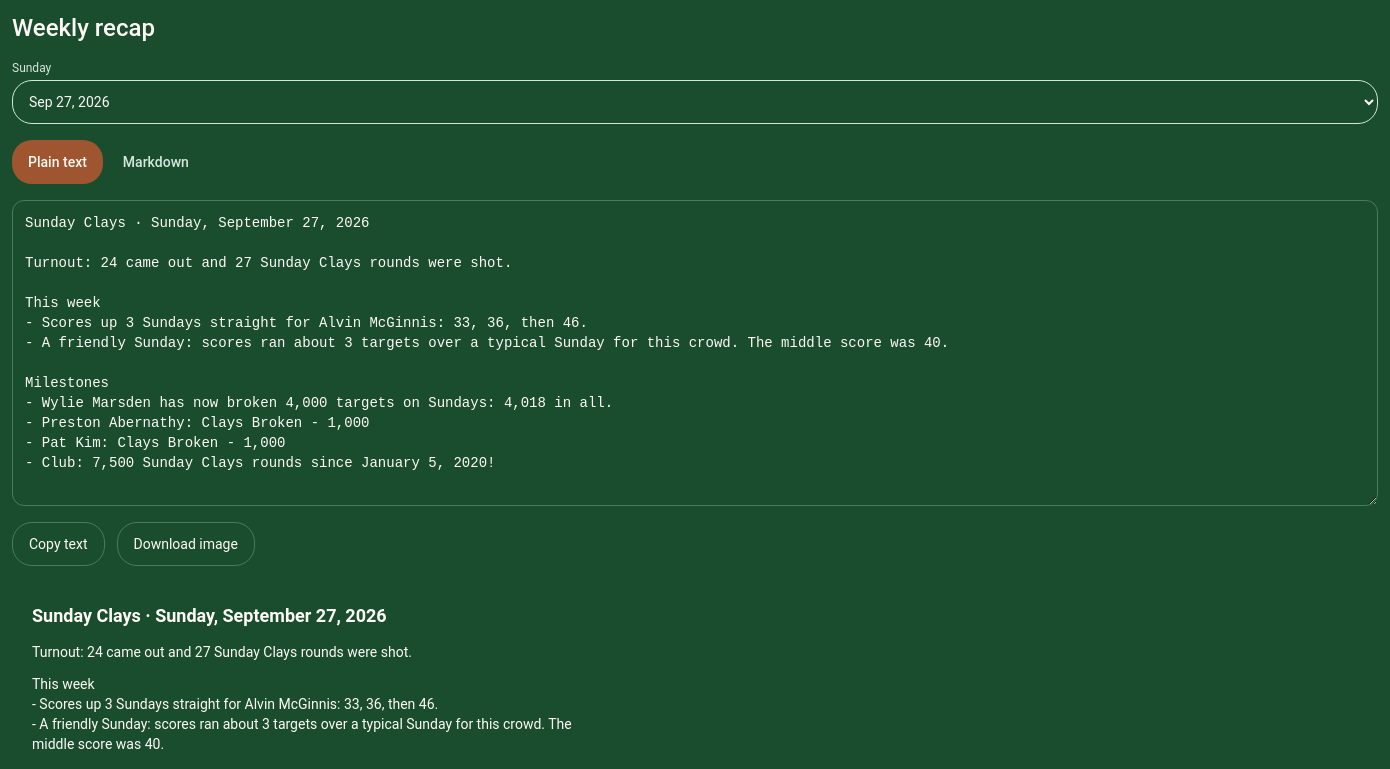
RecapPage › falls back to selecting the text when the clipboard API fails
Click the button "Copy text" at [58, 544], box [12, 522, 104, 566]
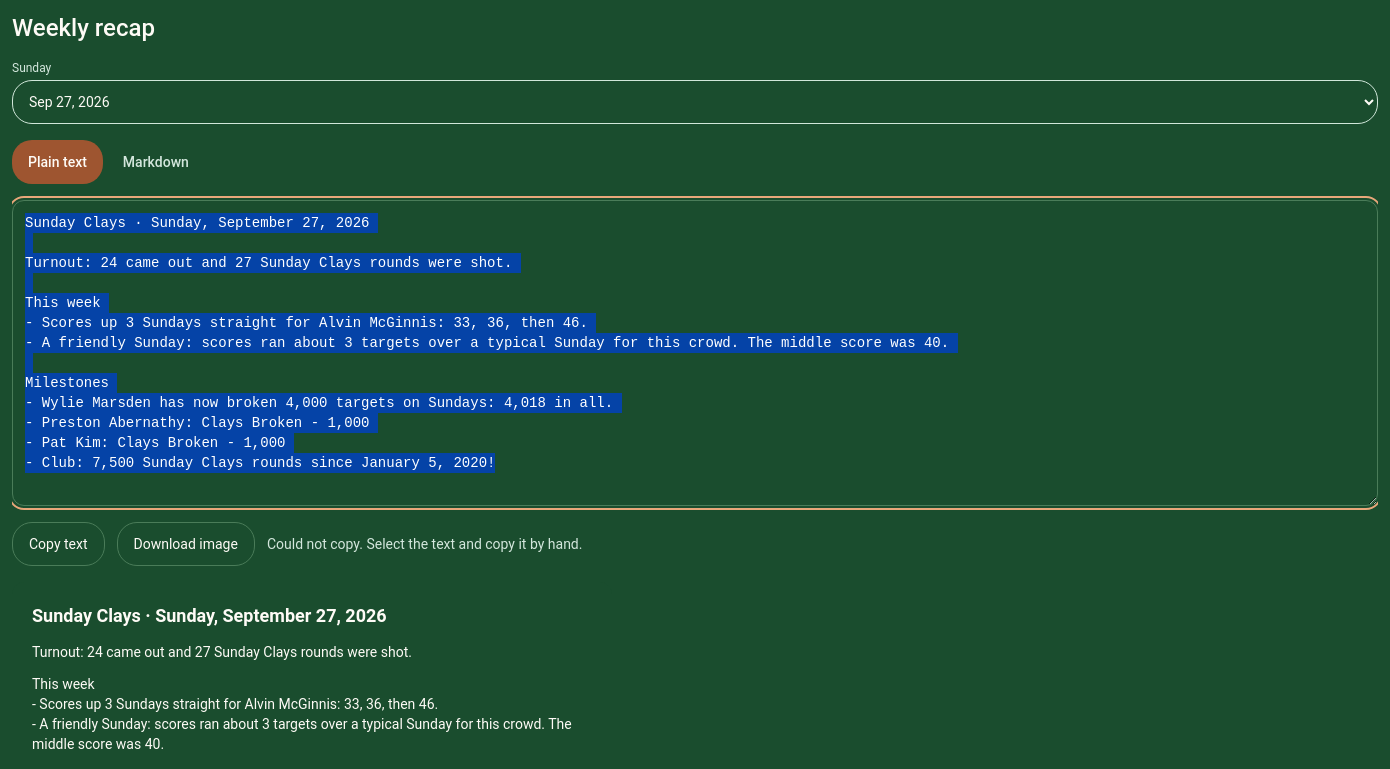
Expected: the text "Could not copy. Select the text and copy it by hand." is shown, [267, 534, 582, 554]
